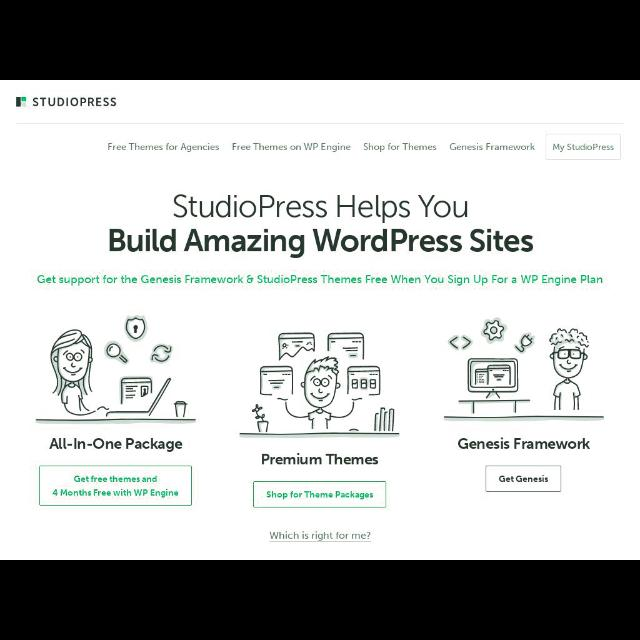image: (236, 326, 404, 444), (436, 312, 608, 426), (31, 314, 206, 426), (16, 96, 28, 108)
multitab: (106, 132, 626, 164)
text: (108, 226, 534, 254), (172, 192, 470, 224), (37, 274, 606, 286), (47, 436, 183, 452), (260, 450, 378, 468), (268, 530, 374, 546), (458, 438, 592, 450), (52, 489, 178, 499), (232, 143, 352, 153), (265, 490, 375, 500), (32, 97, 118, 109), (108, 144, 220, 152), (363, 142, 437, 154), (72, 474, 160, 484), (449, 142, 535, 152), (552, 142, 616, 154), (498, 474, 548, 484)
textbutton: (38, 465, 194, 507), (252, 480, 388, 510), (544, 134, 622, 162), (484, 465, 562, 493)
